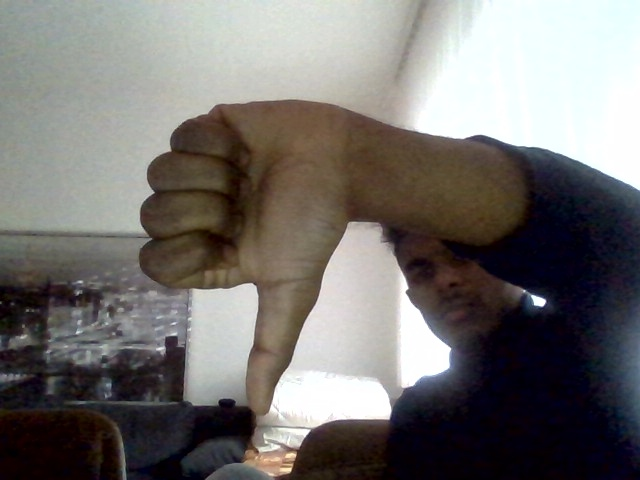td: (137, 82, 360, 419)
